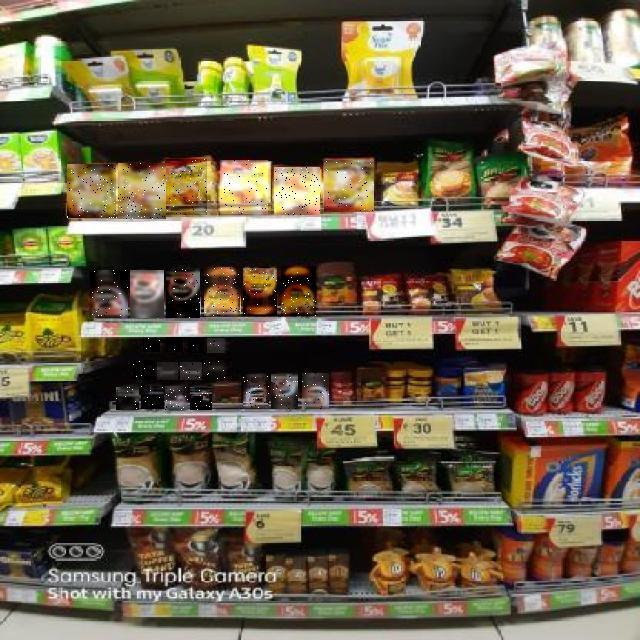Coffee: (68, 164, 118, 218), (119, 163, 167, 219), (324, 160, 374, 212), (220, 161, 268, 215), (166, 159, 210, 215), (274, 167, 320, 215), (90, 271, 128, 319), (205, 267, 241, 316), (281, 266, 316, 316), (243, 267, 277, 317), (166, 268, 200, 318), (130, 270, 164, 318), (302, 373, 329, 409), (271, 374, 298, 409), (243, 374, 269, 409), (166, 387, 190, 411), (141, 386, 164, 409), (116, 387, 139, 410), (190, 387, 212, 410), (203, 360, 226, 380), (133, 360, 155, 380), (180, 362, 202, 380), (157, 362, 178, 380), (208, 338, 228, 353), (166, 337, 183, 352), (188, 338, 204, 353), (143, 339, 160, 353)
